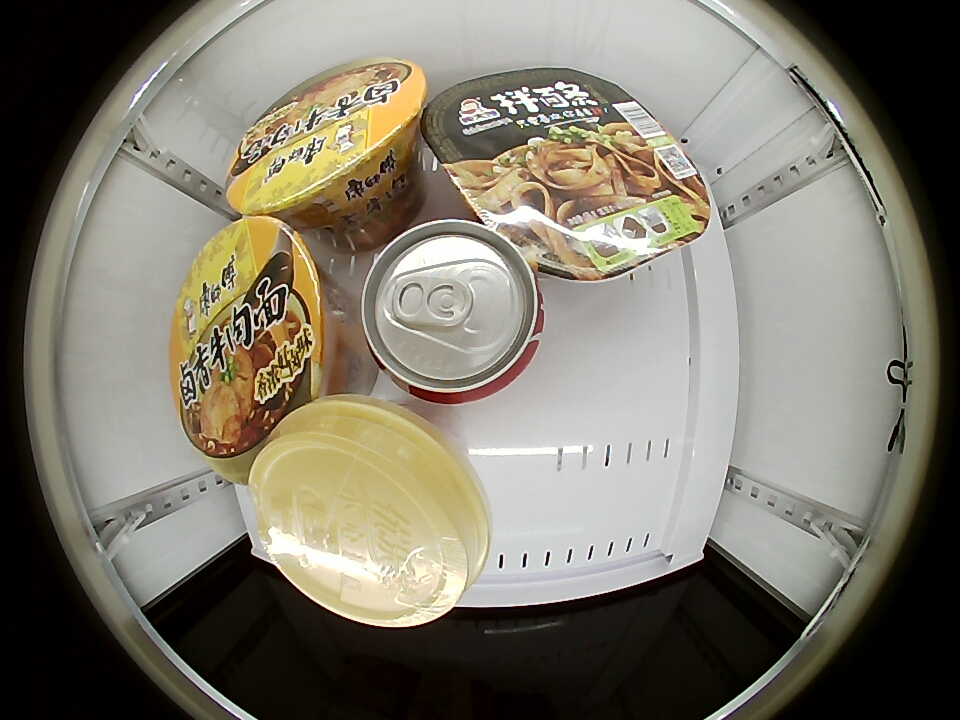gudasao: (422, 68, 711, 281)
kele: (358, 218, 545, 404)
luxiangniurou: (172, 215, 336, 488), (225, 59, 425, 218)
youlemei: (249, 397, 491, 627)
